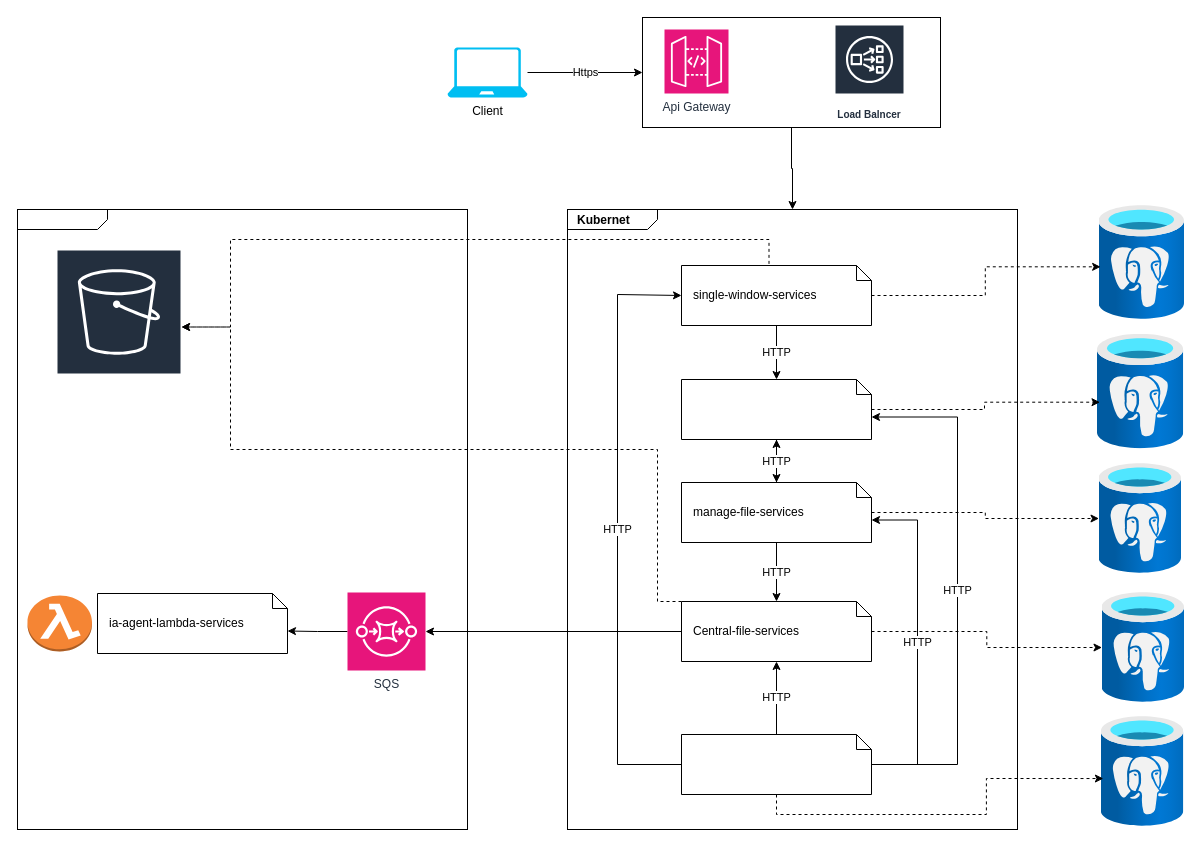
Some shapes in this 1202 by 847 pixel diagram are drawn without their labels. Each missing label, with the box of its shape:
Amazon S3: (56, 248, 182, 404)
AWS: (16, 208, 468, 830)
documentary-flow-services: (680, 378, 872, 440)
user-services: (680, 734, 872, 794)
